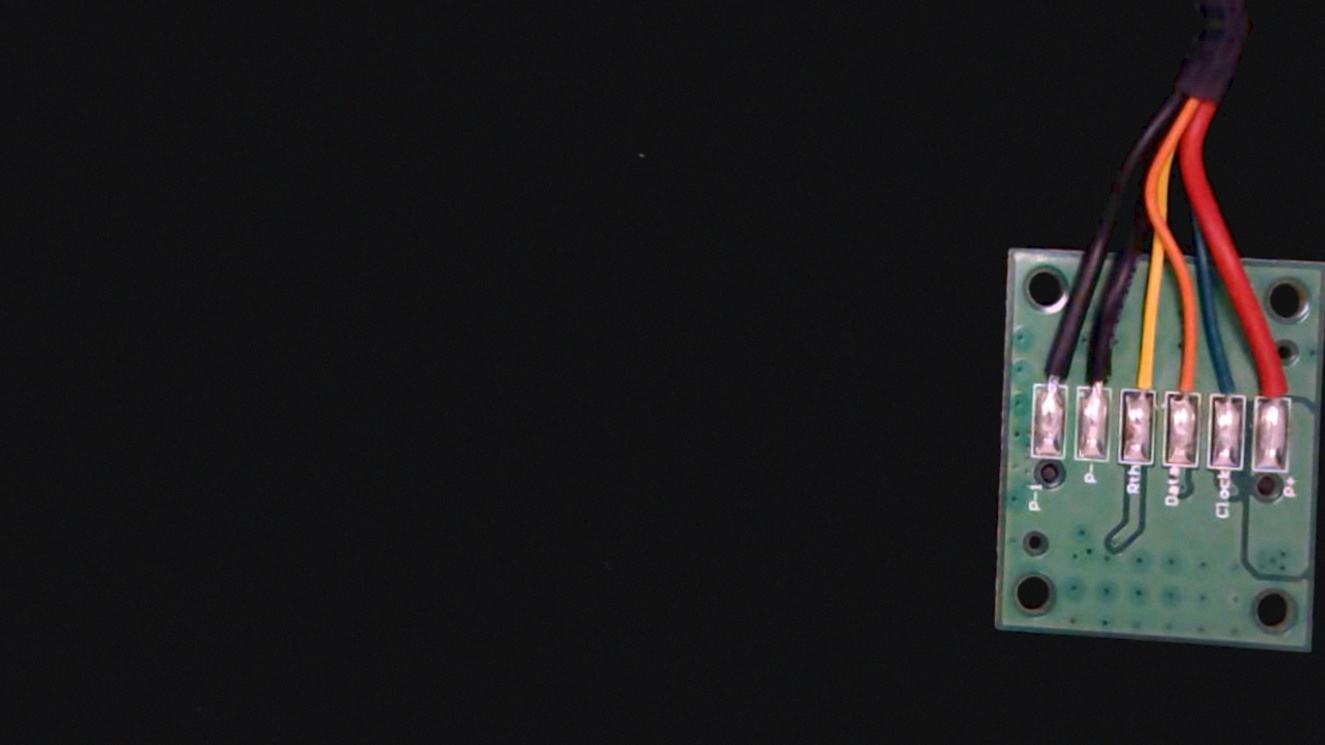Black: (1078, 323, 1118, 405)
Black1: (1031, 322, 1073, 402)
Green: (1207, 332, 1252, 415)
Orange: (1163, 326, 1205, 412)
Red: (1253, 332, 1297, 415)
Yellow: (1121, 319, 1165, 407)
